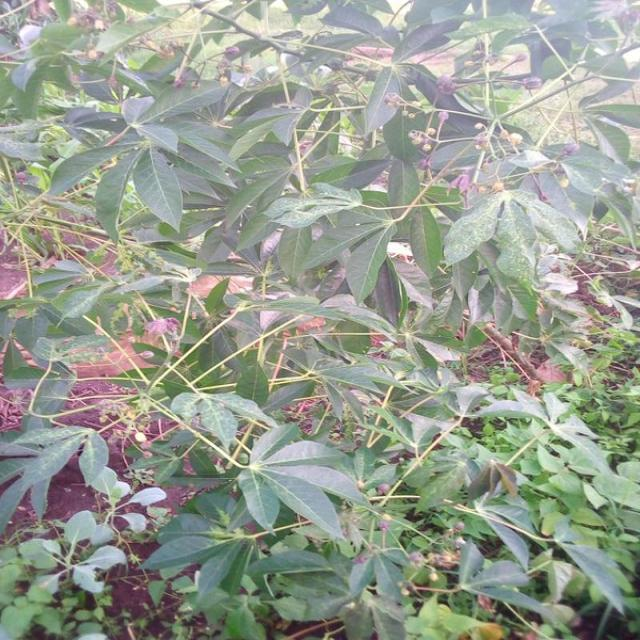cassava leaf: (0, 0, 638, 638), (236, 421, 369, 542)
